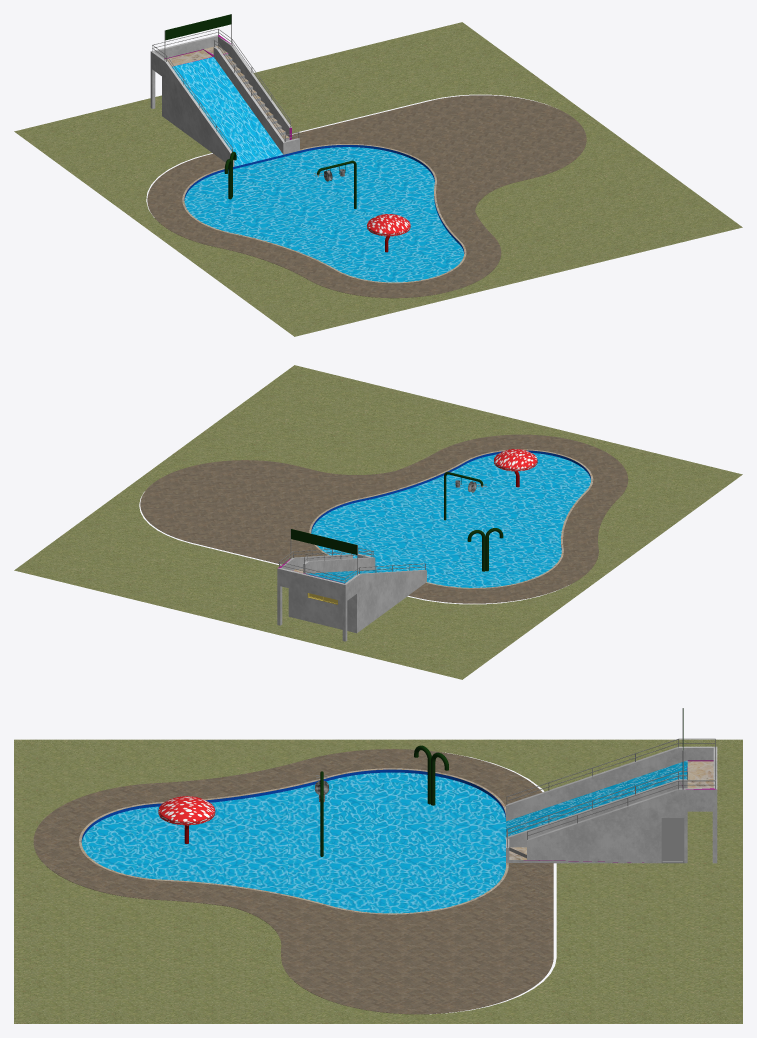
File: alberca.obj
3 renders of one model, top to bottom at view 1: azimuth 30°, elevation 25°; view 2: azimuth 150°, elevation 25°; view 3: azimuth 270°, elevation 25°, orthographic. The views are drawn at different scales.
Parts seen in each view (by area): view 1: Rectangle007, Shape004, Shape013, resbaladilla, rampa, Shape005, Shape015, Shape006, Shape012, Rectangle009; view 2: Rectangle007, Shape004, Shape013, resbaladilla, Shape005, Shape012, Shape015, Shape006, Rectangle009; view 3: Rectangle007, Shape004, Shape013, lateral_rampa, resbaladilla, rampa, Shape005, Shape015, Shape012, Shape006, PivotDoor001, Plane001.
Boxes of the visible parts, left/top/right/bottom form: Rectangle007: left=14, top=22, right=742, bottom=336; Shape004: left=147, top=95, right=586, bottom=298; Shape013: left=184, top=147, right=463, bottom=282; resbaladilla: left=150, top=35, right=299, bottom=166; rampa: left=172, top=57, right=283, bottom=166; Shape005: left=182, top=144, right=466, bottom=283; Shape015: left=152, top=29, right=299, bottom=151; Shape006: left=184, top=145, right=464, bottom=253; Shape012: left=367, top=214, right=410, bottom=236; Rectangle009: left=165, top=14, right=231, bottom=40; Rectangle007: left=14, top=365, right=742, bottom=679; Shape004: left=140, top=434, right=628, bottom=603; Shape013: left=311, top=453, right=590, bottom=587; resbaladilla: left=277, top=554, right=426, bottom=641; Shape005: left=309, top=449, right=593, bottom=588; Shape012: left=494, top=449, right=537, bottom=471; Shape015: left=279, top=547, right=425, bottom=583; Shape006: left=311, top=450, right=590, bottom=549; Rectangle009: left=291, top=529, right=357, bottom=554; Rectangle007: left=14, top=739, right=742, bottom=1023; Shape004: left=33, top=749, right=553, bottom=1014; Shape013: left=82, top=772, right=505, bottom=913; lateral_rampa: left=506, top=789, right=717, bottom=863; resbaladilla: left=506, top=746, right=717, bottom=847; rampa: left=506, top=760, right=687, bottom=836; Shape005: left=79, top=768, right=508, bottom=914; Shape015: left=506, top=738, right=715, bottom=847; Shape012: left=158, top=796, right=215, bottom=825; Shape006: left=81, top=769, right=505, bottom=842; PivotDoor001: left=661, top=818, right=684, bottom=862; Plane001: left=687, top=761, right=713, bottom=788.
Size of the model in its own units: 68.4 by 13.79 by 74.13.
Materials: 18 (8 with a texture image).
